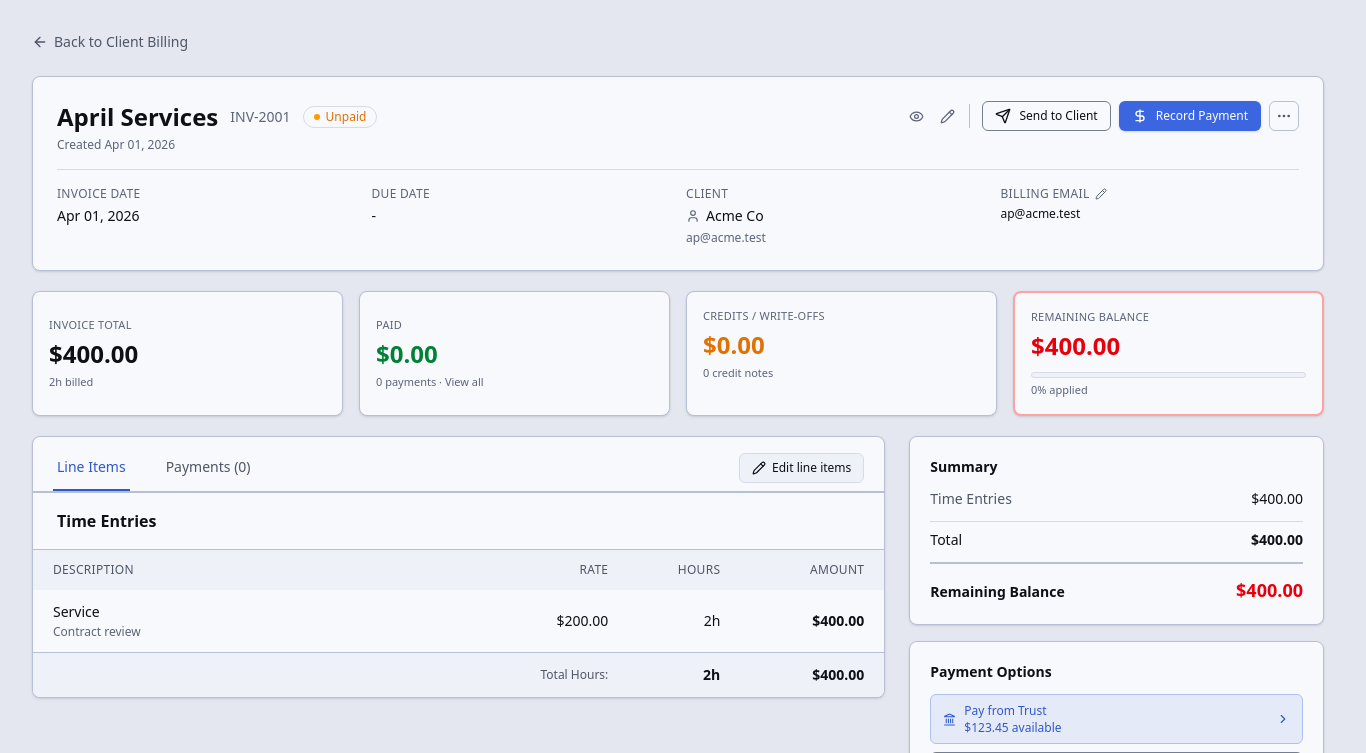
Test: recording a payment › refuses a trust payment larger than the selected trust account holds, naming the available cents
Click the button "Record Payment" at coordinates (1190, 116), box x1=1119 y1=101 x2=1261 y2=131
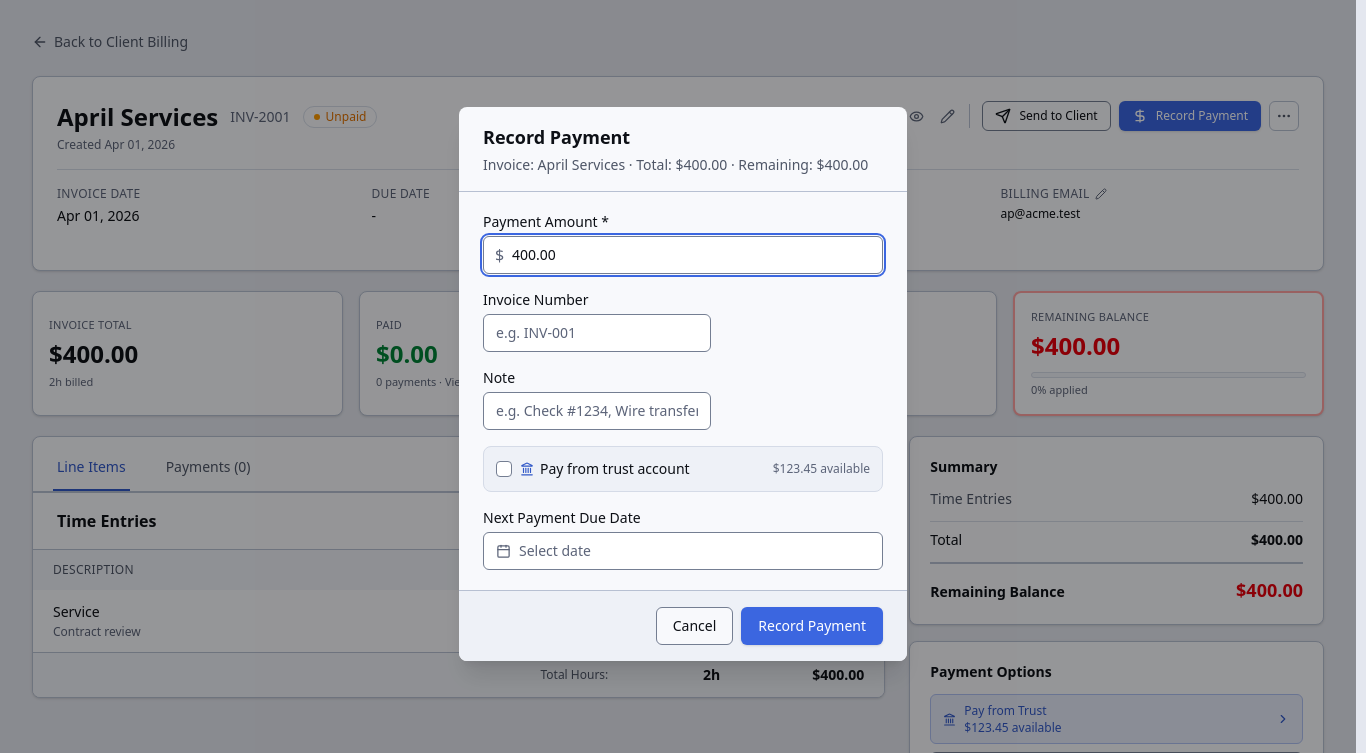
Expected: the text "$123.45 available" is shown, x1=773 y1=461 x2=870 y2=477
Click the element showing "Pay from trust account" at coordinates (605, 469), box x1=520 y1=459 x2=690 y2=479
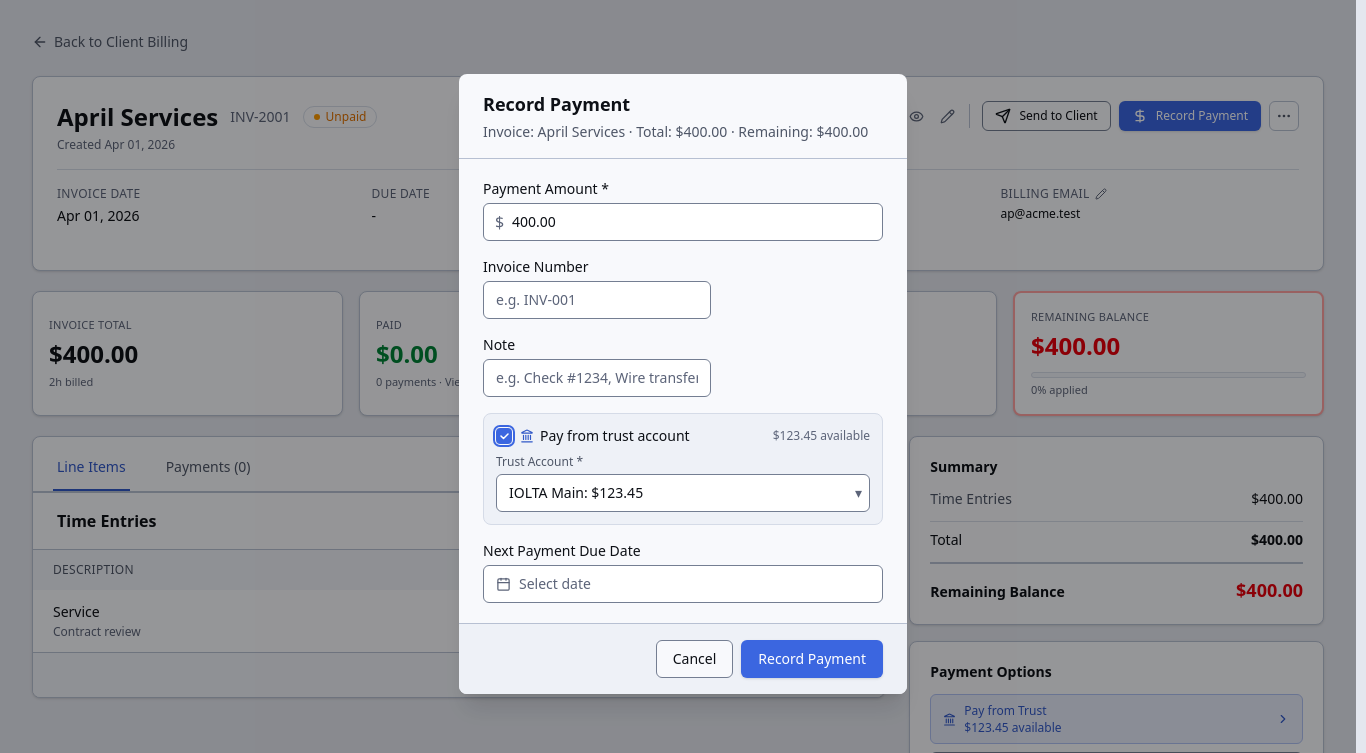
Click the button "Record Payment" at coordinates (812, 659), box x1=741 y1=640 x2=883 y2=678
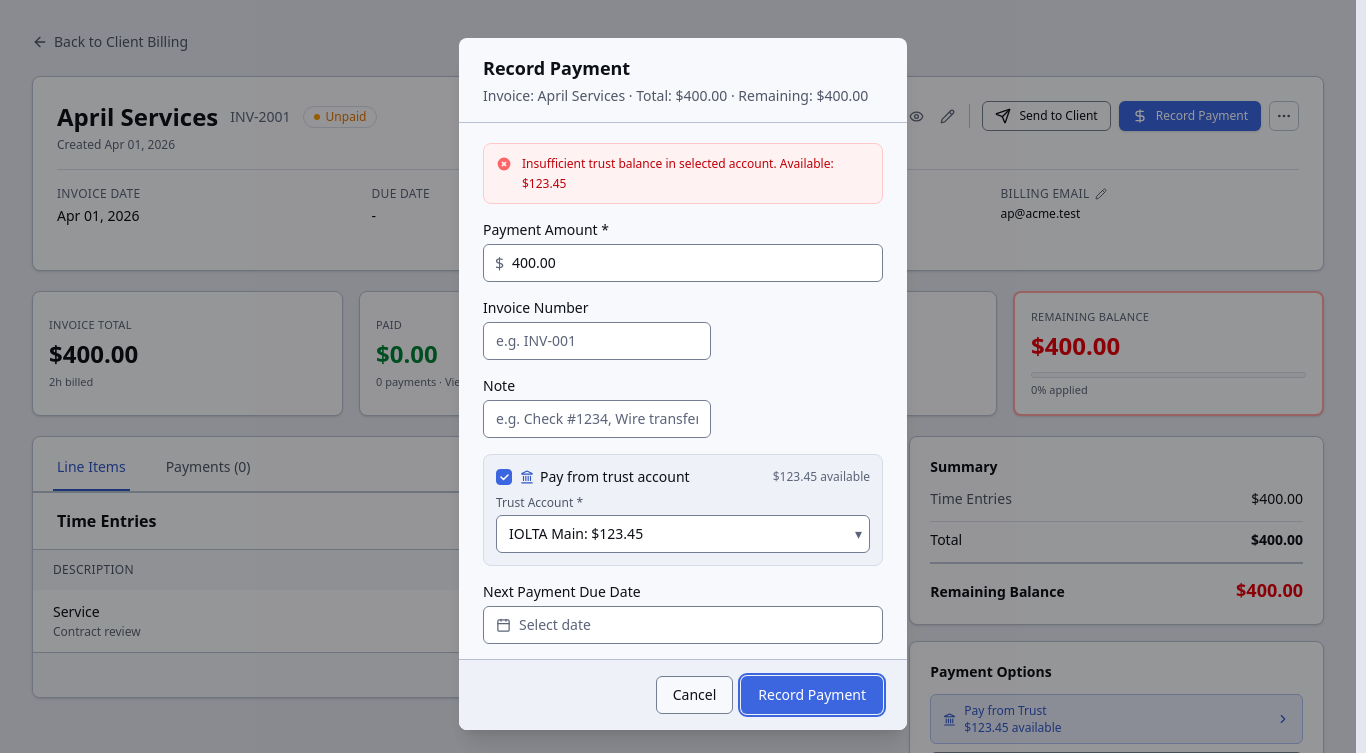
Expected: the text "Insufficient trust balance in selected account. Available: $123.45" is shown, x1=522 y1=154 x2=870 y2=193
